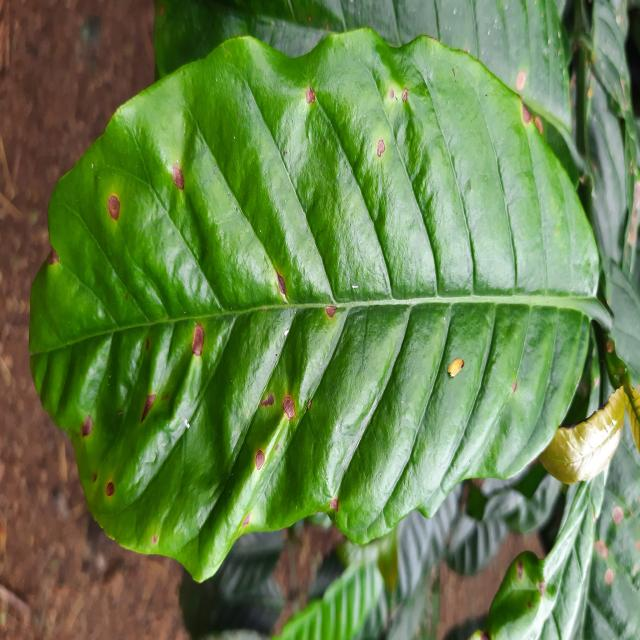Enfermedad-Mancha-de-hierro: (27, 28, 628, 586)
